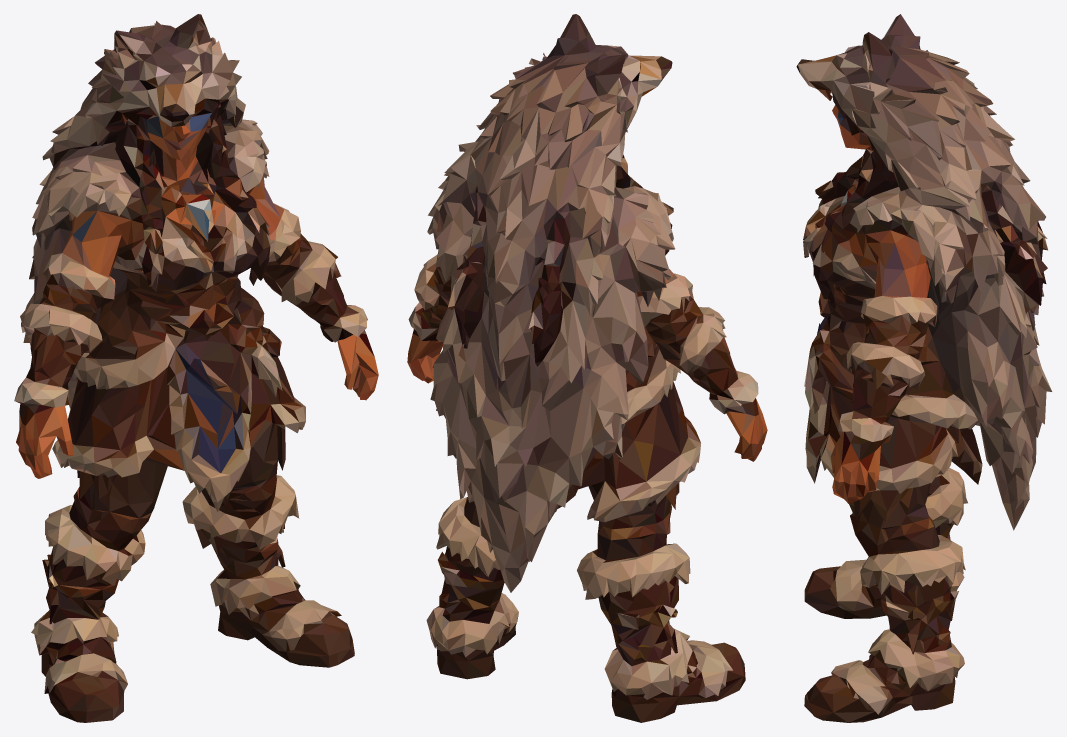
Rendered from beast.glb.
3 renders of one model, left to right at view 1: azimuth 30°, elevation 25°; view 2: azimuth 150°, elevation 25°; view 3: azimuth 270°, elevation 25°, orthographic. The views are drawn at different scales.
Visible parts, largest first — view 1: tripo_node_290857d5-67f2-41a6-a352-9534bfec487c; view 2: tripo_node_290857d5-67f2-41a6-a352-9534bfec487c; view 3: tripo_node_290857d5-67f2-41a6-a352-9534bfec487c.
Part boxes in pixels (x1=…): tripo_node_290857d5-67f2-41a6-a352-9534bfec487c: x1=14, y1=14, x2=378, y2=722; tripo_node_290857d5-67f2-41a6-a352-9534bfec487c: x1=407, y1=14, x2=767, y2=722; tripo_node_290857d5-67f2-41a6-a352-9534bfec487c: x1=796, y1=14, x2=1052, y2=722.
Size of the model in its own units: 0.9779 by 1.75 by 0.6453.
